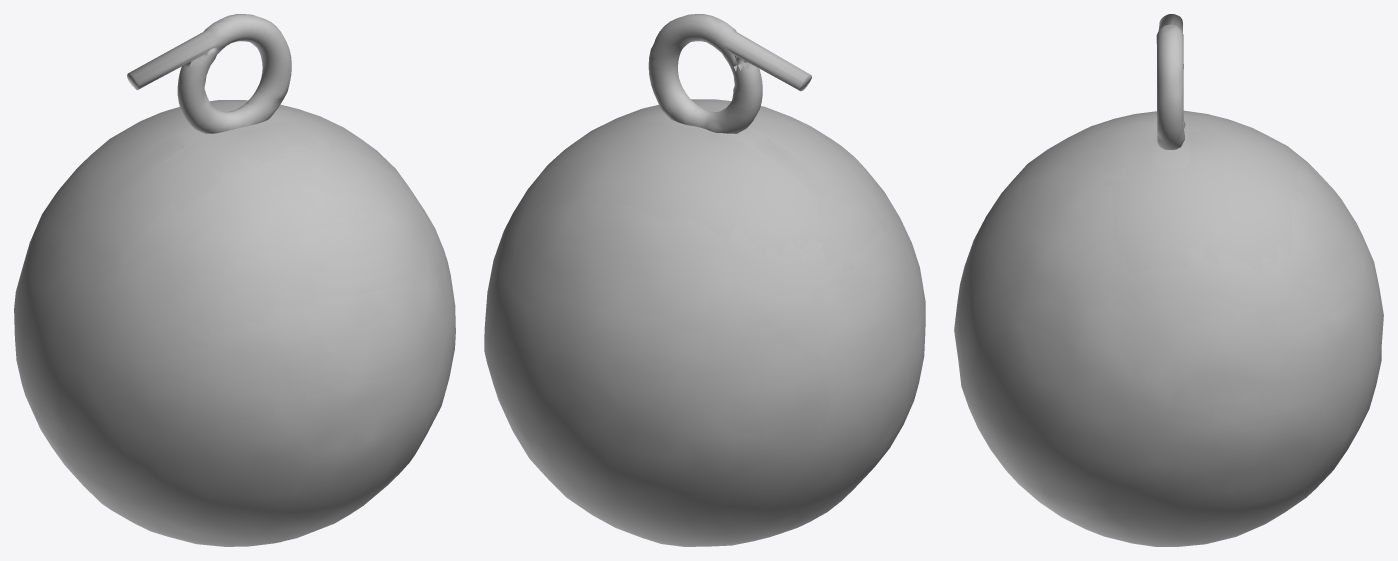
File: pendulum-ball.glb
3 views of the same model, side by side, from view 1: azimuth 30°, elevation 25°; view 2: azimuth 150°, elevation 25°; view 3: azimuth 270°, elevation 25° (orthographic). The views are drawn at different scales.
Bounding box in the file's own units: 0.7461 × 0.9512 × 0.7446.
Materials: 1 (1 with a texture image).
